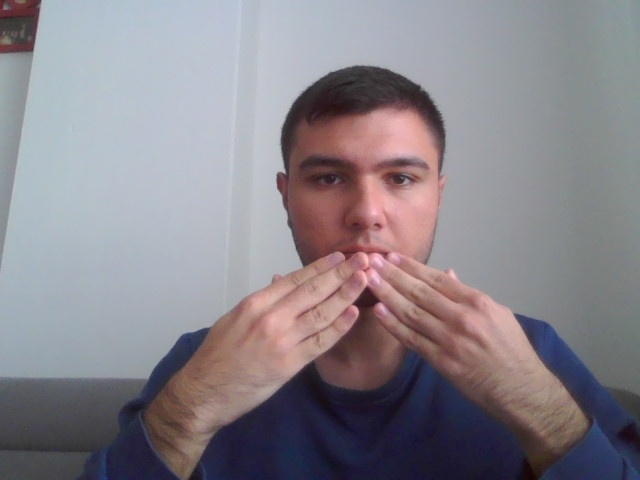thanks: (159, 252, 591, 428)
